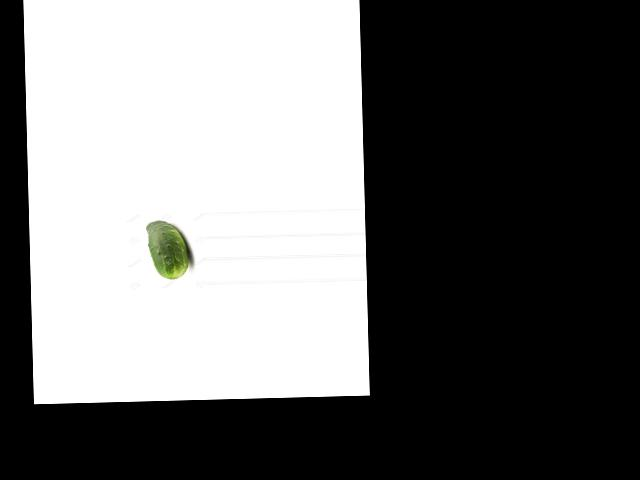cucumber: (146, 219, 189, 280)
